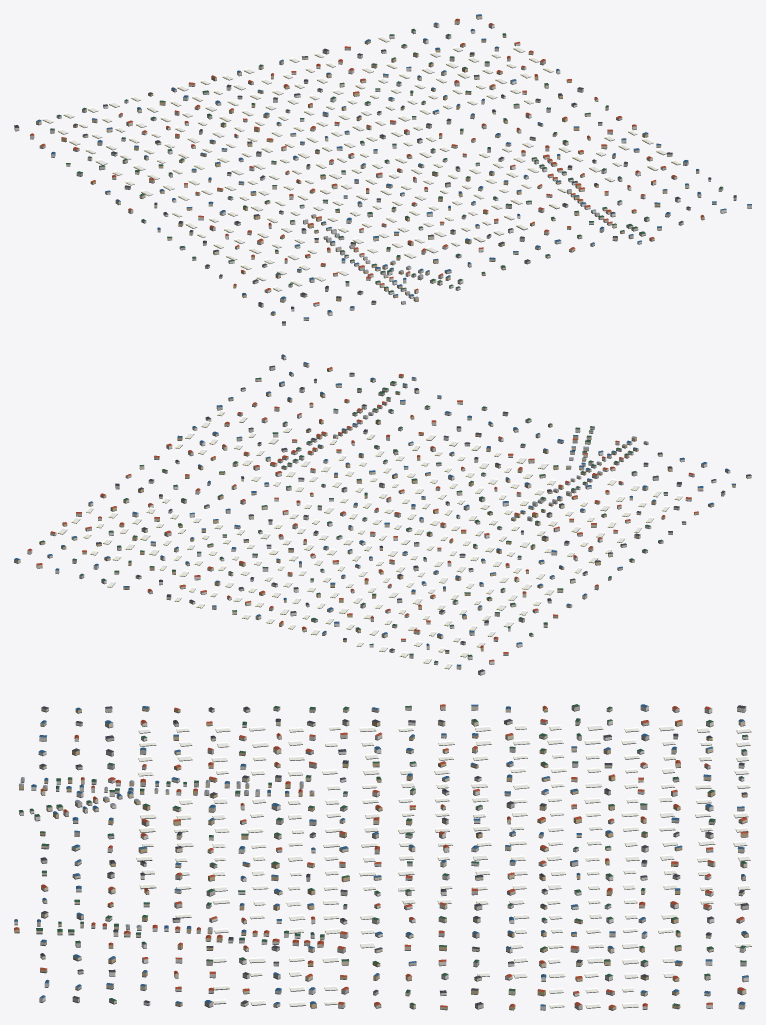
File: buildings_T_E00_N01.glb
3 renders of one model, top to bottom at view 1: azimuth 30°, elevation 25°; view 2: azimuth 150°, elevation 25°; view 3: azimuth 270°, elevation 25°, orthographic. The views are drawn at different scales.
Parts seen in each view (by area): view 1: T_E00_N01_roofs_agri_greenhouse_arch, T_E00_N01_slope_seating_foundations, T_E00_N01_walls_wall_pastel_sand_gray, T_E00_N01_walls_wall_dalat_cream_stucco, T_E00_N01_walls_wall_modern_warm_white, T_E00_N01_walls_wall_french_ochre_villa, T_E00_N01_roofs_roof_terracotta_gable, T_E00_N01_roofs_roof_highland_blue_gable, T_E00_N01_roofs_roof_pine_green_hip, T_E00_N01_roofs_roof_slate_French_villa_hip; view 2: T_E00_N01_slope_seating_foundations, T_E00_N01_roofs_agri_greenhouse_arch, T_E00_N01_walls_wall_pastel_sand_gray, T_E00_N01_walls_wall_dalat_cream_stucco, T_E00_N01_walls_wall_modern_warm_white, T_E00_N01_walls_wall_french_ochre_villa, T_E00_N01_roofs_roof_terracotta_gable, T_E00_N01_roofs_roof_highland_blue_gable, T_E00_N01_roofs_roof_pine_green_hip, T_E00_N01_roofs_roof_slate_French_villa_hip; view 3: T_E00_N01_roofs_agri_greenhouse_arch, T_E00_N01_slope_seating_foundations, T_E00_N01_walls_wall_pastel_sand_gray, T_E00_N01_walls_wall_dalat_cream_stucco, T_E00_N01_walls_wall_modern_warm_white, T_E00_N01_walls_wall_french_ochre_villa, T_E00_N01_roofs_roof_terracotta_gable, T_E00_N01_roofs_roof_highland_blue_gable, T_E00_N01_roofs_roof_pine_green_hip, T_E00_N01_roofs_roof_slate_French_villa_hip.
Boxes of the visible parts, box(x1,y1,x2,y2) form: T_E00_N01_roofs_agri_greenhouse_arch: box(42, 36, 680, 290); T_E00_N01_slope_seating_foundations: box(15, 18, 751, 325); T_E00_N01_walls_wall_pastel_sand_gray: box(39, 29, 736, 307); T_E00_N01_walls_wall_dalat_cream_stucco: box(36, 15, 723, 325); T_E00_N01_walls_wall_modern_warm_white: box(14, 23, 751, 315); T_E00_N01_walls_wall_french_ochre_villa: box(61, 35, 704, 315); T_E00_N01_roofs_roof_terracotta_gable: box(30, 18, 704, 304); T_E00_N01_roofs_roof_highland_blue_gable: box(36, 14, 751, 318); T_E00_N01_roofs_roof_pine_green_hip: box(50, 28, 722, 292); T_E00_N01_roofs_roof_slate_French_villa_hip: box(14, 48, 736, 323); T_E00_N01_slope_seating_foundations: box(14, 358, 751, 675); T_E00_N01_roofs_agri_greenhouse_arch: box(57, 410, 682, 668); T_E00_N01_walls_wall_pastel_sand_gray: box(72, 367, 725, 657); T_E00_N01_walls_wall_dalat_cream_stucco: box(14, 374, 751, 669); T_E00_N01_walls_wall_modern_warm_white: box(27, 355, 716, 674); T_E00_N01_walls_wall_french_ochre_villa: box(39, 368, 735, 653); T_E00_N01_roofs_roof_terracotta_gable: box(27, 367, 698, 661); T_E00_N01_roofs_roof_highland_blue_gable: box(14, 354, 735, 666); T_E00_N01_roofs_roof_pine_green_hip: box(39, 377, 667, 662); T_E00_N01_roofs_roof_slate_French_villa_hip: box(96, 365, 751, 672); T_E00_N01_roofs_agri_greenhouse_arch: box(136, 724, 751, 1007); T_E00_N01_slope_seating_foundations: box(14, 709, 751, 1010); T_E00_N01_walls_wall_pastel_sand_gray: box(20, 705, 748, 1009); T_E00_N01_walls_wall_dalat_cream_stucco: box(36, 706, 747, 1009); T_E00_N01_walls_wall_modern_warm_white: box(14, 706, 748, 1009); T_E00_N01_walls_wall_french_ochre_villa: box(14, 707, 748, 1010); T_E00_N01_roofs_roof_terracotta_gable: box(14, 704, 748, 1007); T_E00_N01_roofs_roof_highland_blue_gable: box(14, 704, 748, 1006); T_E00_N01_roofs_roof_pine_green_hip: box(19, 704, 748, 1006); T_E00_N01_roofs_roof_slate_French_villa_hip: box(39, 705, 748, 1005).
Size of the model in its own units: 1753 by 35.72 by 1821.
